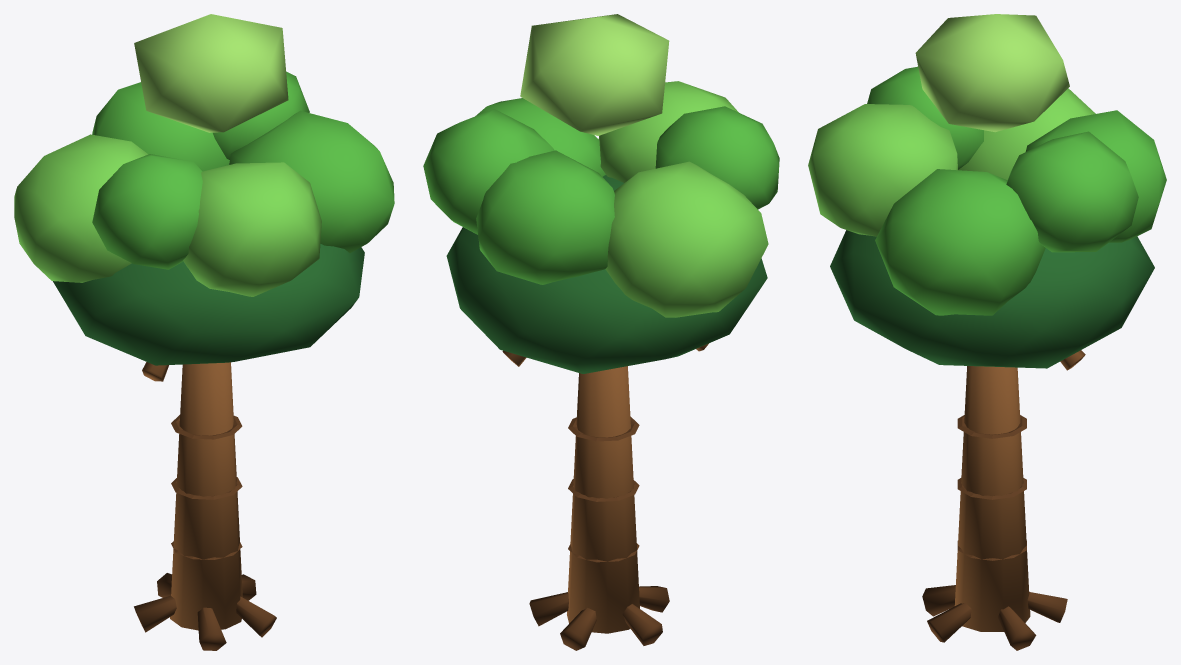
Rendered from hd_oak.gltf.
The picture shows the model from 3 angles, left to right: view 1: azimuth 30°, elevation 25°; view 2: azimuth 150°, elevation 25°; view 3: azimuth 270°, elevation 25°; orthographic projection.
Visible parts, largest first — view 1: canopyDark, trunk, can3, crown, can0, can1, can5, can2, can4, root2, root3, root4; view 2: canopyDark, can0, trunk, can2, crown, can4, can5, can3, can1, root2, root1, root0 (+2 smaller); view 3: canopyDark, can1, trunk, crown, can3, can4, can2, can0, can5, root4, root0, root1 (+2 smaller).
Part boxes in pixels (box(x1,y1,x2,y2)): canopyDark: box(53, 244, 364, 365); trunk: box(170, 362, 242, 630); can3: box(183, 162, 321, 296); crown: box(134, 14, 288, 132); can0: box(14, 134, 148, 282); can1: box(229, 110, 394, 252); can5: box(92, 154, 202, 269); can2: box(92, 82, 229, 171); can4: box(213, 71, 309, 159); root2: box(134, 595, 176, 632); root3: box(197, 607, 226, 650); root4: box(236, 596, 276, 637); canopyDark: box(446, 175, 767, 373); can0: box(605, 161, 768, 317); trunk: box(567, 366, 639, 633); can2: box(476, 150, 614, 284); crown: box(520, 14, 669, 135); can4: box(423, 109, 554, 234); can5: box(655, 106, 779, 209); can3: box(598, 81, 738, 182); can1: box(475, 98, 605, 176); root2: box(622, 604, 662, 645); root1: box(560, 608, 596, 650); root0: box(529, 592, 568, 626); canopyDark: box(830, 230, 1154, 368); can1: box(875, 169, 1045, 315); trunk: box(954, 366, 1030, 631); crown: box(915, 14, 1069, 132); can3: box(808, 104, 957, 236); can4: box(1006, 131, 1138, 252); can2: box(1025, 110, 1166, 242); can0: box(958, 88, 1095, 179); can5: box(867, 66, 983, 169); root4: box(927, 603, 971, 642); root0: box(998, 606, 1036, 650); root1: box(1027, 592, 1067, 622).
Bounding box in the file's own units: 3.44 × 6.06 × 3.2.
